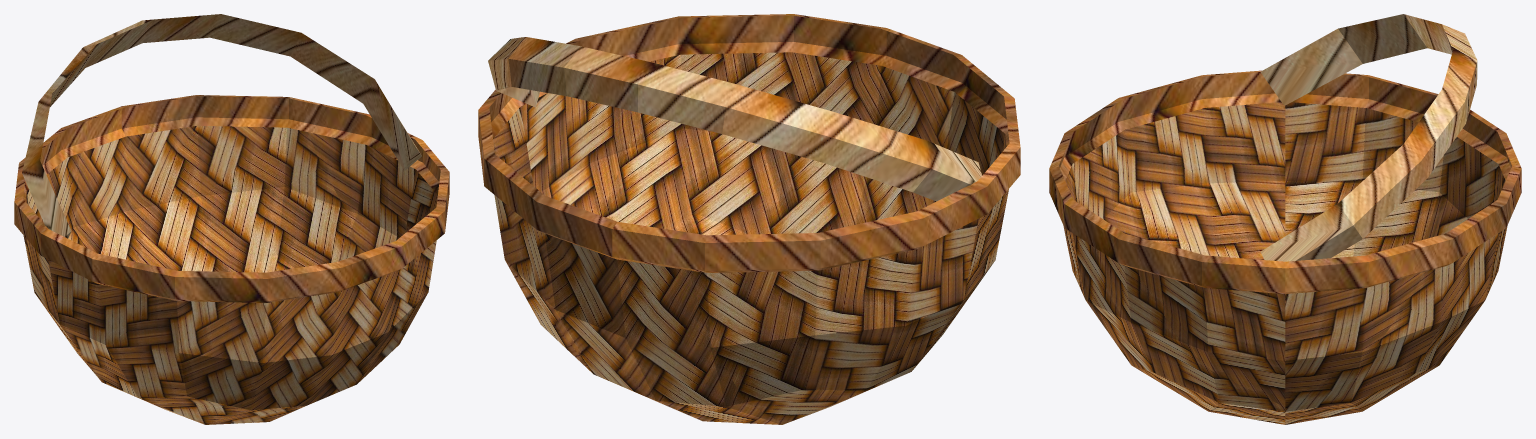
The model's file is Basket_empty.fbx.
3 renders of one model, left to right at view 1: azimuth 30°, elevation 25°; view 2: azimuth 150°, elevation 25°; view 3: azimuth 270°, elevation 25°, orthographic. The views are drawn at different scales.
Visible parts, largest first — view 1: Basket_base; view 2: Basket_base; view 3: Basket_base.
Boxes of the visible parts, x1=… form: Basket_base: x1=14, y1=14, x2=449, y2=424; Basket_base: x1=478, y1=14, x2=1020, y2=424; Basket_base: x1=1049, y1=14, x2=1521, y2=424.
Bounding box in the file's own units: 208 × 171 × 208.
Materials: 1 (1 with a texture image).
